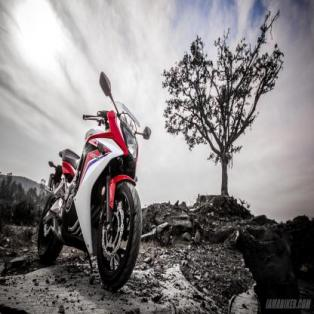Motocicleta: (37, 66, 156, 296)
